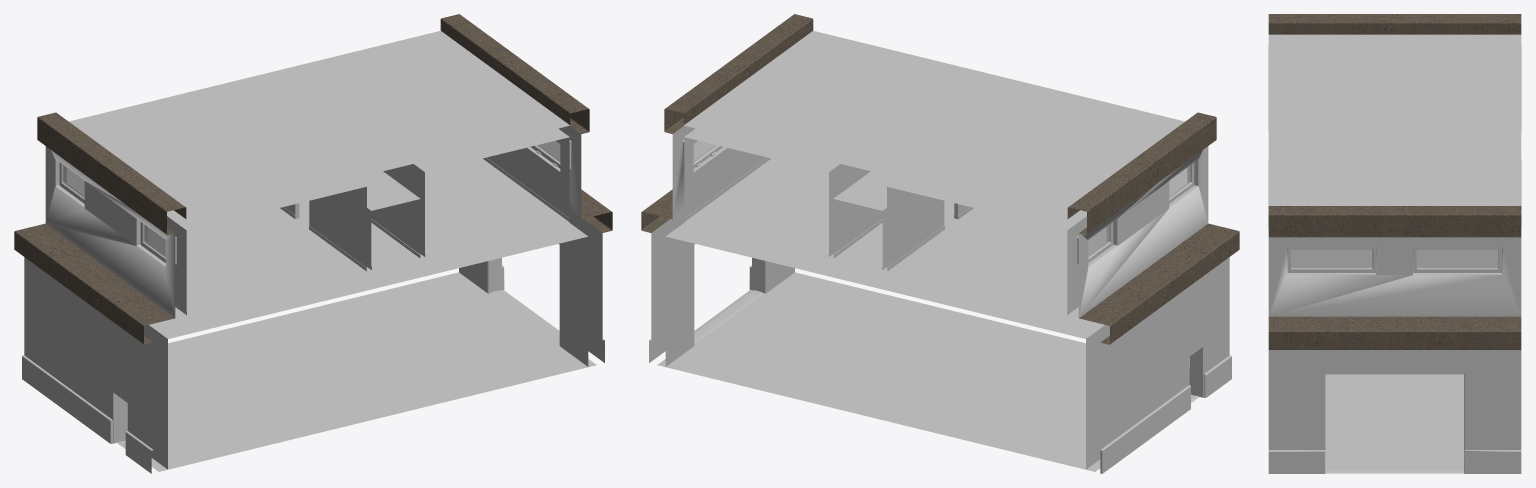
The model's file is FireStationGarage.fbx.
3 renders of one model, left to right at view 1: azimuth 30°, elevation 25°; view 2: azimuth 150°, elevation 25°; view 3: azimuth 270°, elevation 25°, orthographic. The views are drawn at different scales.
Parts seen in each view (by area): view 1: FireStationGarage; view 2: FireStationGarage; view 3: FireStationGarage.
Part boxes in pixels (bbox=[...]): FireStationGarage: bbox=[14, 14, 612, 473]; FireStationGarage: bbox=[641, 14, 1239, 473]; FireStationGarage: bbox=[1268, 14, 1521, 473].
Size of the model in its own units: 20.87 by 11 by 10.03.
